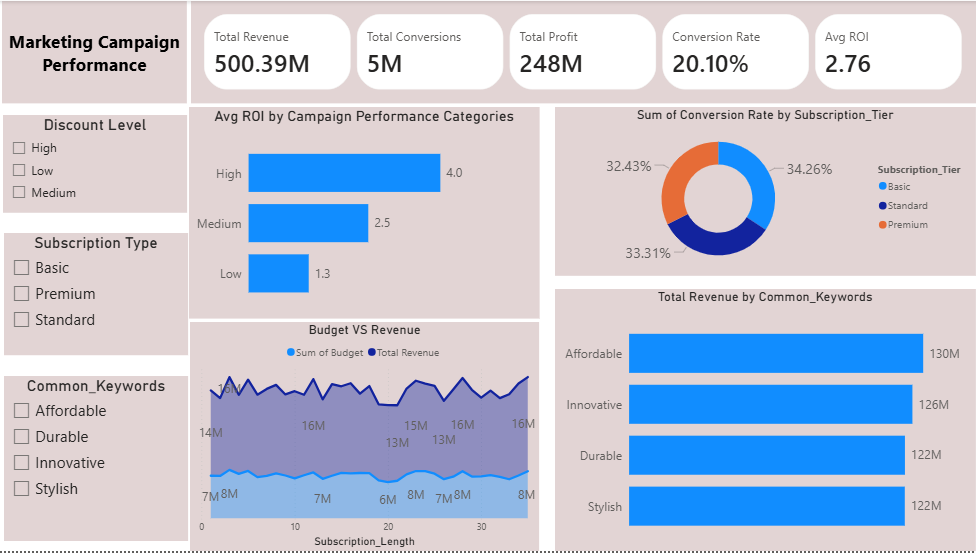

The dashboard page shown, as its layout file describes it:
{"tool":"powerbi","page":{"name":"Overview","canvas":[1280,720],"ordinal":0},"visuals":[{"type":"shape","box":[5.8,0,241.9,133.9],"z":0},{"type":"cardVisual","fields":{"Data":["Measure.Total Revenue","Measure.Total Conversions","Measure.Total Profit","Measure.Conversion Rate","Measure.Avg ROI"]},"box":[252,0,1028.2,133.9],"z":1000},{"type":"barChart","title":"Avg ROI by Campaign Performance Categories","fields":{"Y":["Measure.Avg ROI"],"Category":["marketing_and_product_performance.Campaign Categories"]},"box":[250.4,138.4,458.8,276.8],"z":2000},{"type":"barChart","fields":{"Category":["marketing_and_product_performance.Common_Keywords"],"Y":["Measure.Total Revenue"]},"box":[729.4,376.4,550.6,343.7],"z":4000},{"type":"donutChart","fields":{"Category":["marketing_and_product_performance.Subscription_Tier"],"Y":["Sum(marketing_and_product_performance.Conversion Rate)"]},"box":[729.4,138.4,550.6,220.9],"z":5000},{"type":"slicer","title":"Common_Keywords","fields":{"Values":["marketing_and_product_performance.Common_Keywords"]},"box":[7.8,491.5,241.1,216.2],"z":6000},{"type":"slicer","title":"Discount Level","fields":{"Values":["marketing_and_product_performance.Campaign Categories"]},"box":[6.2,149.3,241.1,127.5],"z":7000},{"type":"slicer","title":"Subscription Type","fields":{"Values":["marketing_and_product_performance.Subscription_Tier"]},"box":[7.8,304.1,241.1,160.2],"z":8000},{"type":"stackedAreaChart","title":"Budget VS Revenue","fields":{"Category":["marketing_and_product_performance.Subscription_Length"],"Y":["Sum(marketing_and_product_performance.Budget)","Measure.Total Revenue"]},"box":[252,419.9,457.3,300.2],"z":9000}]}

Visuals, with their boxes in screenshot pixels (x1, y1, x2, y2), scaled from the page's 1280x720 canvas onto the 976x553 screenshot:
shape: detection(4, 0, 189, 103)
cardVisual - Measure.Total Revenue x Measure.Total Conversions: detection(192, 0, 975, 103)
"Avg ROI by Campaign Performance Categories" barChart: detection(191, 106, 541, 319)
barChart - marketing_and_product_performance.Common_Keywords x Measure.Total Revenue: detection(556, 289, 975, 552)
donutChart - marketing_and_product_performance.Subscription_Tier x Sum(marketing_and_product_performance.Conversion Rate): detection(556, 106, 975, 276)
"Common_Keywords" slicer: detection(6, 377, 190, 544)
"Discount Level" slicer: detection(5, 115, 189, 213)
"Subscription Type" slicer: detection(6, 234, 190, 357)
"Budget VS Revenue" stackedAreaChart: detection(192, 323, 541, 552)
